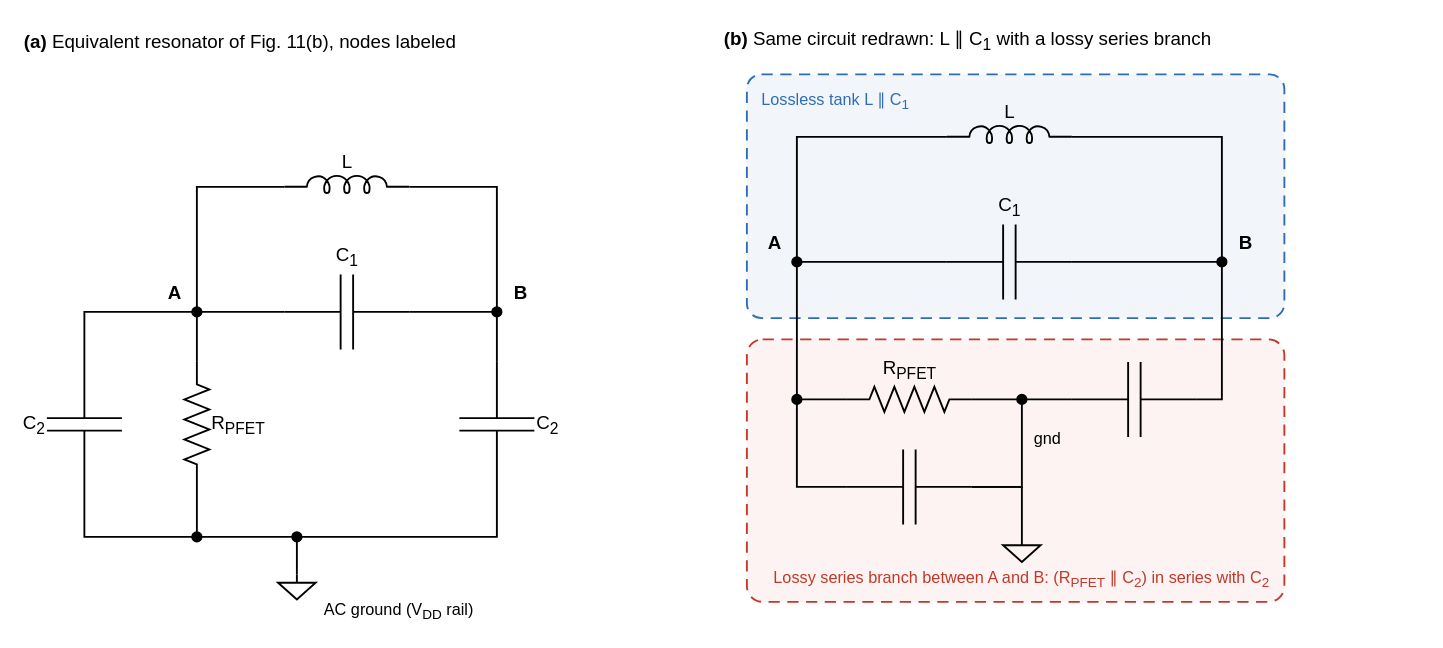
Image size: 1443x648. Some labels were removed from this diagram. Here are the shapes that lost their labels. From the top down, the centre of each, then its label:
the point at 1133,398: C 2 (right)
the point at 908,486: C 2 (left)
